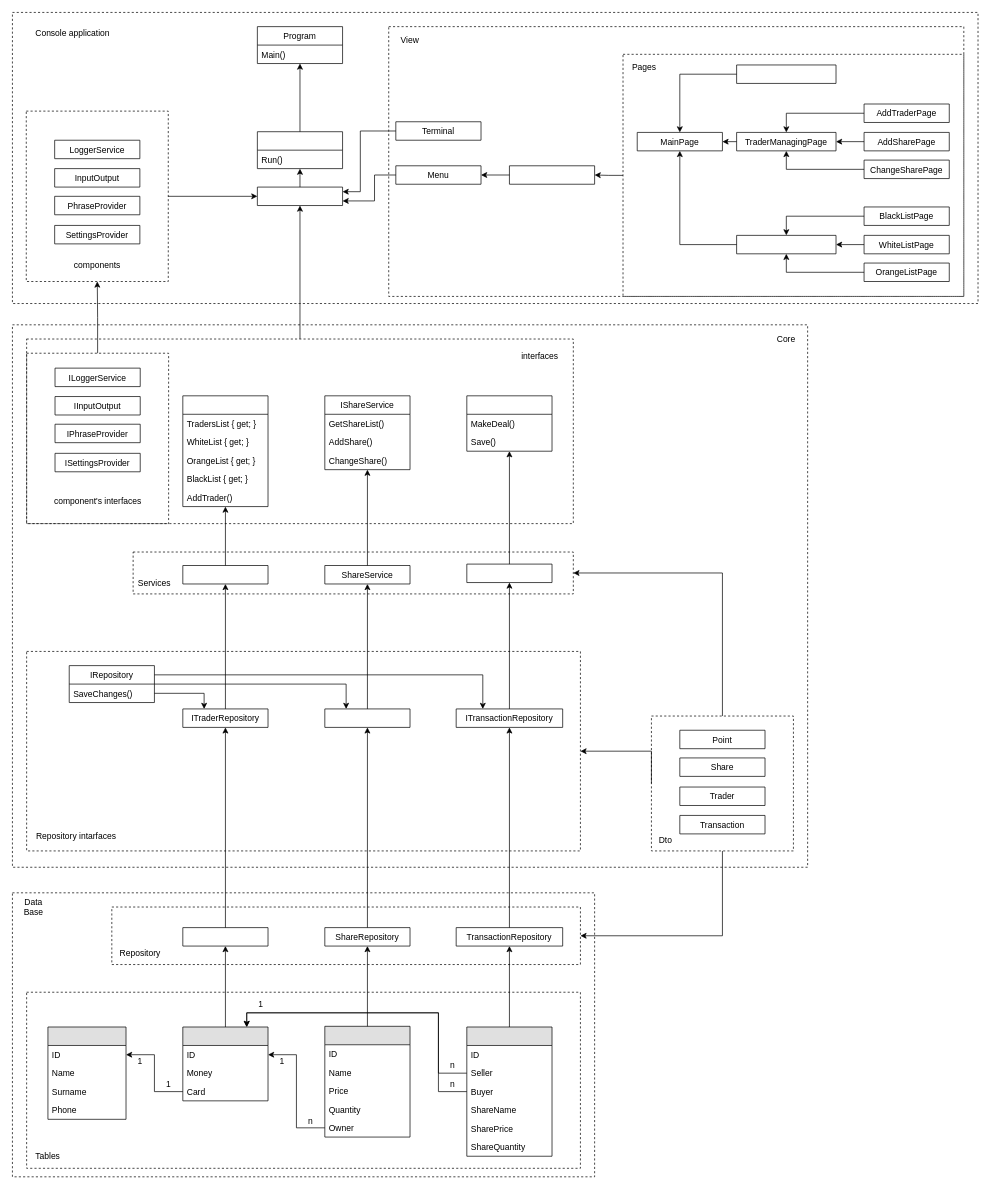
This 990x1189 diagram has some shape labels left out. Here are the shapes that lost their labels. From the top down, the box of each, then its label:
(736, 64, 836, 83): HistoryPage
(257, 131, 343, 169): IController
(509, 165, 595, 184): IPage
(257, 186, 343, 206): Controller
(736, 235, 836, 254): TraderListPage
(466, 395, 552, 451): ITransactionService
(182, 395, 268, 507): ITraderService
(182, 565, 268, 584): TraderService
(466, 563, 552, 583): TransactionService
(324, 708, 410, 727): IShareRepository
(182, 927, 268, 946): TraderRepository
(47, 1026, 126, 1119): CardEntity
(182, 1026, 268, 1101): TraderEntity
(324, 1026, 410, 1137): ShareEntity
(466, 1026, 552, 1156): TransactionEntity
